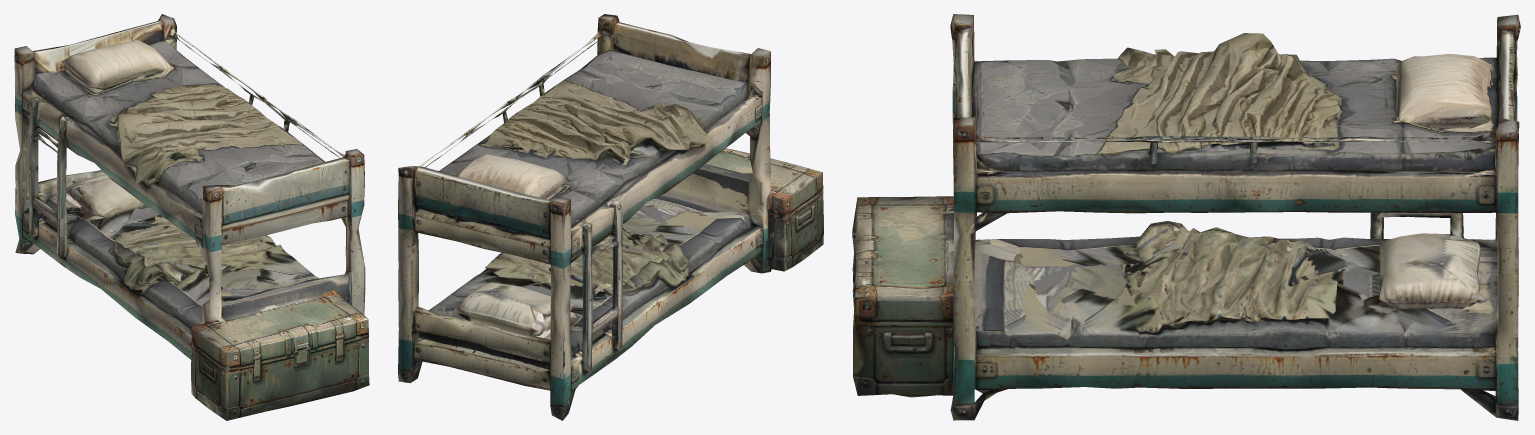
File: EX_Lab_Bed.fbx
3 renders of one model, left to right at view 1: azimuth 30°, elevation 25°; view 2: azimuth 150°, elevation 25°; view 3: azimuth 270°, elevation 25°, orthographic. The views are drawn at different scales.
Parts seen in each view (by area): view 1: texture_mapping; view 2: texture_mapping; view 3: texture_mapping.
Part boxes in pixels (x1,y1,x2,y2): texture_mapping: [14, 14, 369, 420]; texture_mapping: [398, 14, 823, 420]; texture_mapping: [852, 14, 1520, 420].
Size of the model in its own units: 0.4378 by 1 by 0.4962.
Materials: 1 (1 with a texture image).
